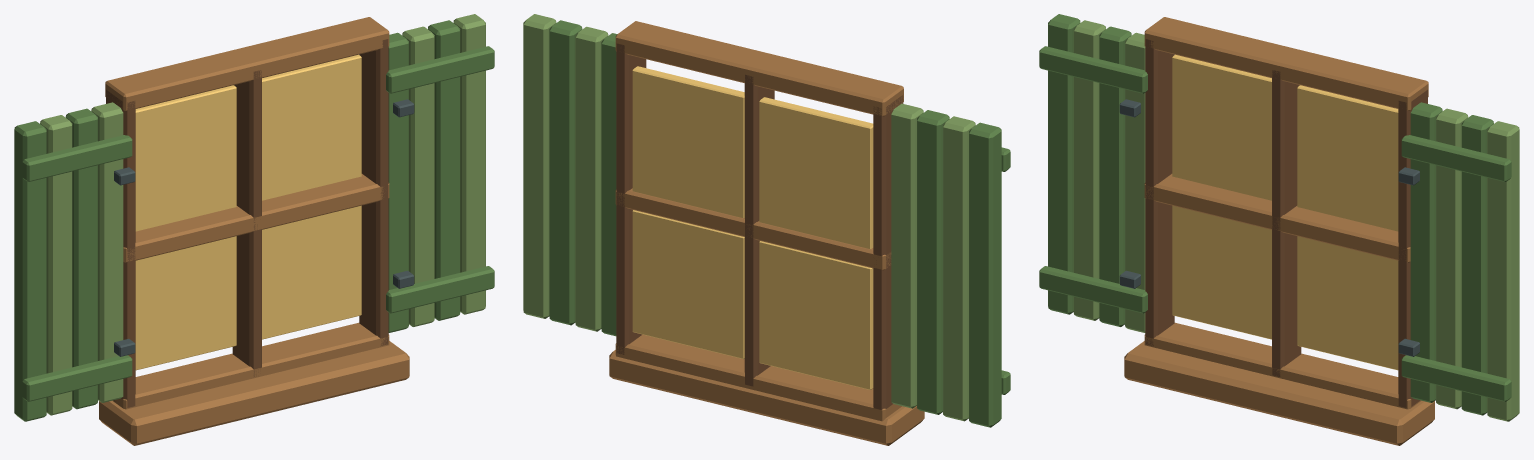
File: CottageShutters.glb
The picture shows the model from 3 angles, left to right: view 1: azimuth 30°, elevation 25°; view 2: azimuth 150°, elevation 25°; view 3: azimuth 330°, elevation 25°; orthographic projection.
Visible parts, largest first — view 1: CottageShutters; view 2: CottageShutters; view 3: CottageShutters.
Part boxes in pixels (left/top/right/bottom): CottageShutters: left=14, top=14, right=494, bottom=445; CottageShutters: left=523, top=14, right=1010, bottom=445; CottageShutters: left=1039, top=14, right=1519, bottom=445.
Bounding box in the file's own units: 2.3 × 1.6 × 0.32.
